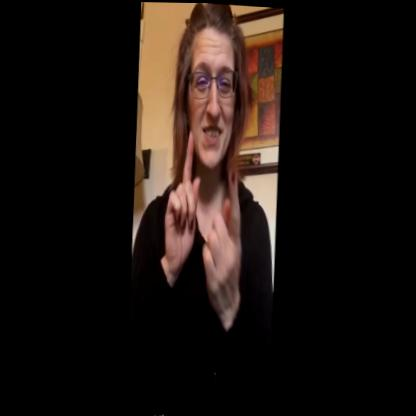NiceToMeetYou: (144, 113, 255, 326)
